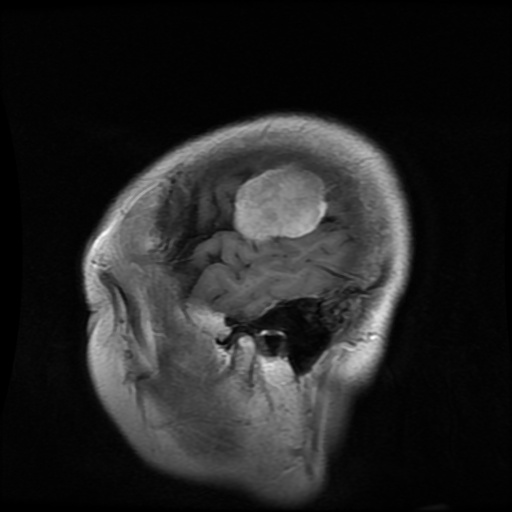meningioma: (233, 164, 328, 240)
